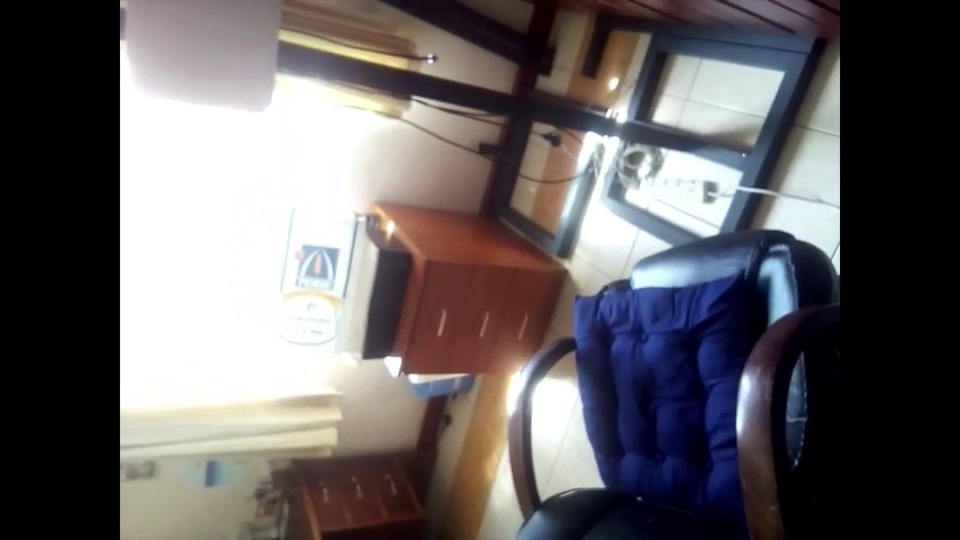wheat_flour_blue_label: (278, 210, 368, 354)
